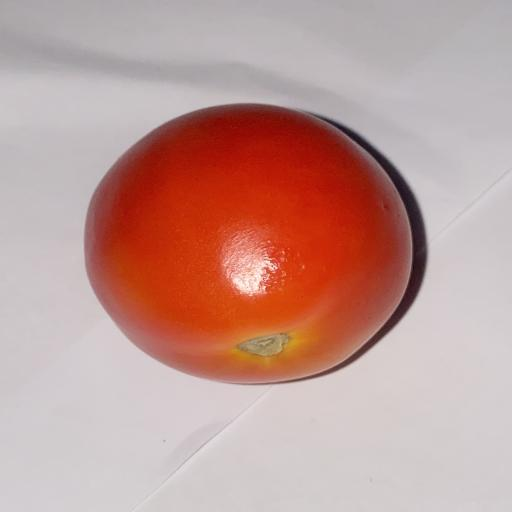ripe: (85, 104, 411, 382)
